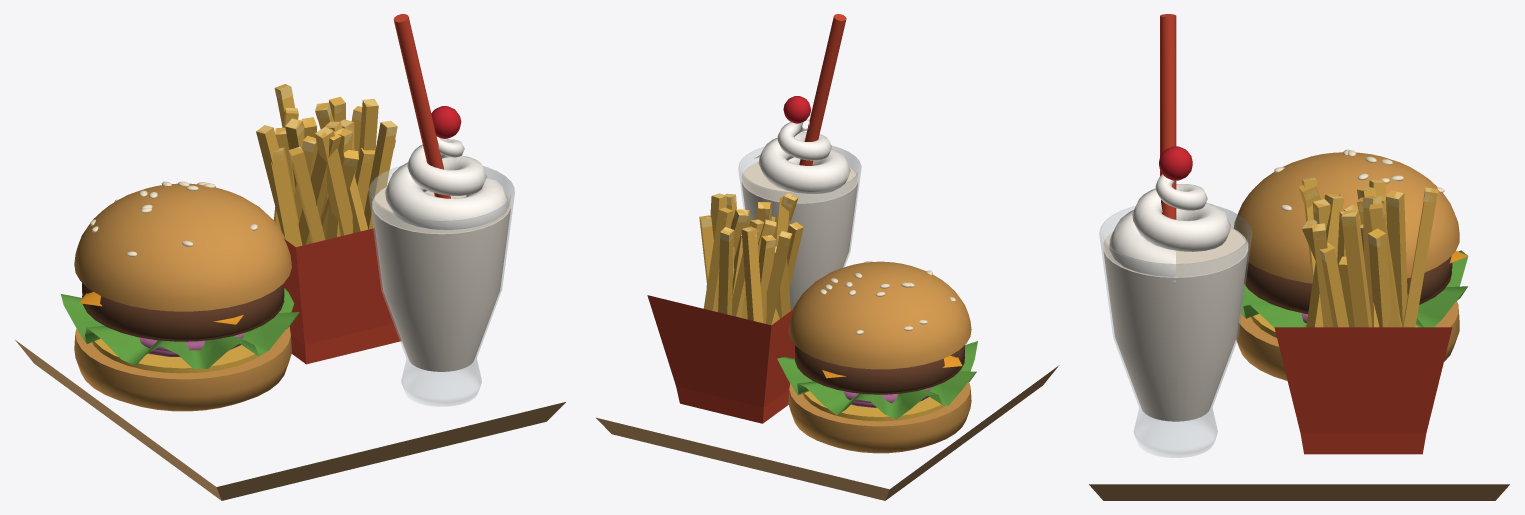
Rendered from combo-shake.glb.
The picture shows the model from 3 angles, left to right: view 1: azimuth 30°, elevation 25°; view 2: azimuth 150°, elevation 25°; view 3: azimuth 270°, elevation 25°; orthographic projection. The views are drawn at different scales.
Visible parts, largest first — view 1: combo-shake; view 2: combo-shake; view 3: combo-shake.
Boxes of the visible parts, x1,y1,x2,y2 form: combo-shake: (15, 14, 565, 500); combo-shake: (596, 14, 1059, 500); combo-shake: (1089, 14, 1509, 500).
Size of the model in its own units: 0.2067 by 0.2218 by 0.198.
